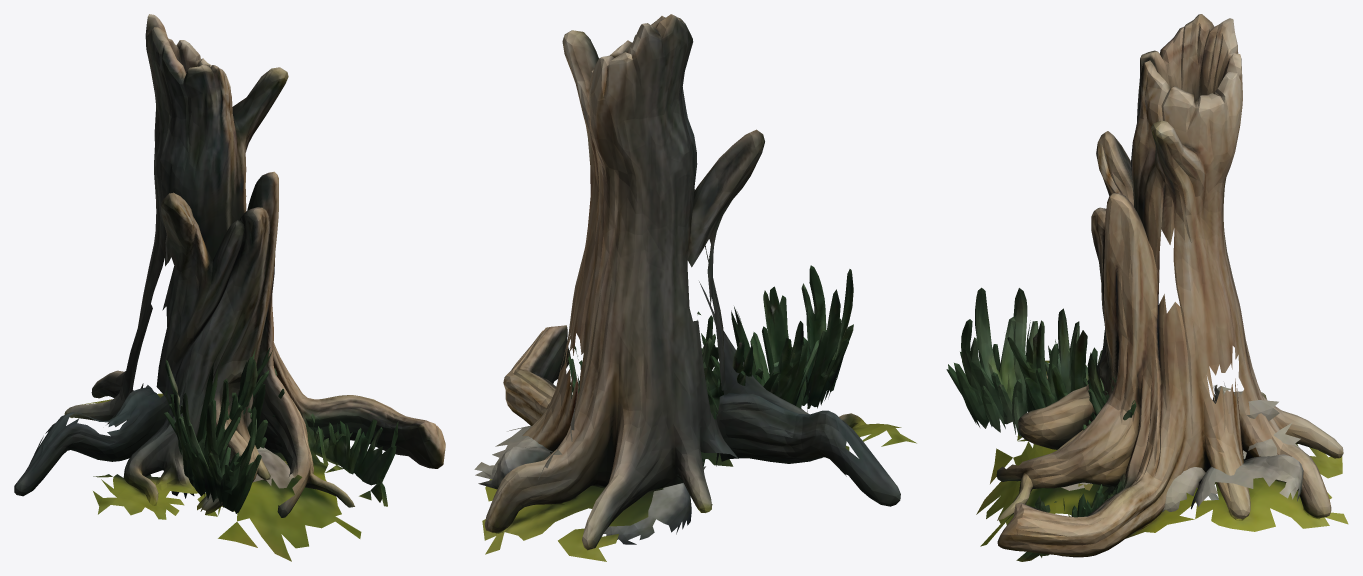
Rendered from kit_terrain4.glb.
3 renders of one model, left to right at view 1: azimuth 30°, elevation 25°; view 2: azimuth 150°, elevation 25°; view 3: azimuth 270°, elevation 25°, orthographic. The views are drawn at different scales.
Parts seen in each view (by area): view 1: oak_0, rock_2, rock_1, plant_4, plant_3; view 2: oak_0, rock_2, rock_1; view 3: oak_0, rock_2.
Boxes of the visible parts, box(x1,y1,x2,y2) form: oak_0: box(14, 14, 445, 561); rock_2: box(164, 360, 261, 514); rock_1: box(171, 447, 293, 498); plant_4: box(229, 347, 272, 419); plant_3: box(180, 361, 299, 463); oak_0: box(482, 14, 916, 561); rock_2: box(474, 265, 853, 489); rock_1: box(603, 466, 705, 544); oak_0: box(976, 14, 1348, 561); rock_2: box(946, 287, 1303, 511).
Bounding box in the file's own units: 37.5 × 44.87 × 33.57.
1 material, 1 textured.
